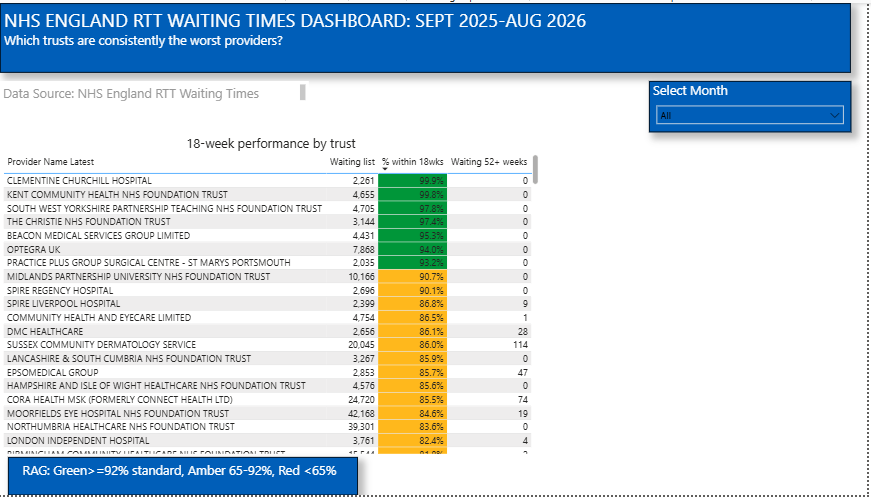

What the dashboard file says about the page in this screenshot:
{"tool":"powerbi","page":{"name":"Providers","canvas":[1280,720],"ordinal":4},"visuals":[{"type":"textbox","box":[11.8,0,1244.7,102.5],"z":0},{"type":"textbox","box":[149.5,297.3,181.4,97.4],"z":1000},{"type":"textbox","box":[11.8,114.2,451.9,33.6],"z":2000},{"type":"slicer","title":"Select Month","fields":{"Values":["rtt_powerbi.period"]},"box":[961.5,114.1,295.6,74.6],"z":3000},{"type":"tableEx","title":"18-week performance by trust","fields":{"Values":["rtt_powerbi.Provider Name Latest","rtt_powerbi.Total Waiting","rtt_powerbi.% Under 18wks","rtt_powerbi.Waiting 52 Latest"]},"box":[11.7,191.7,793.2,472.7],"z":4000},{"type":"textbox","box":[23.4,664.4,512.2,55.6],"z":5000}]}

Visuals, with their boxes in screenshot pixels (x1, y1, x2, y2), scaled from the page's 1280x720 canvas onto the 871x500 screenshot:
textbox: BBox(8, 0, 855, 71)
textbox: BBox(102, 206, 225, 274)
textbox: BBox(8, 79, 316, 103)
"Select Month" slicer: BBox(654, 79, 855, 131)
"18-week performance by trust" tableEx: BBox(8, 133, 548, 461)
textbox: BBox(16, 461, 364, 499)
